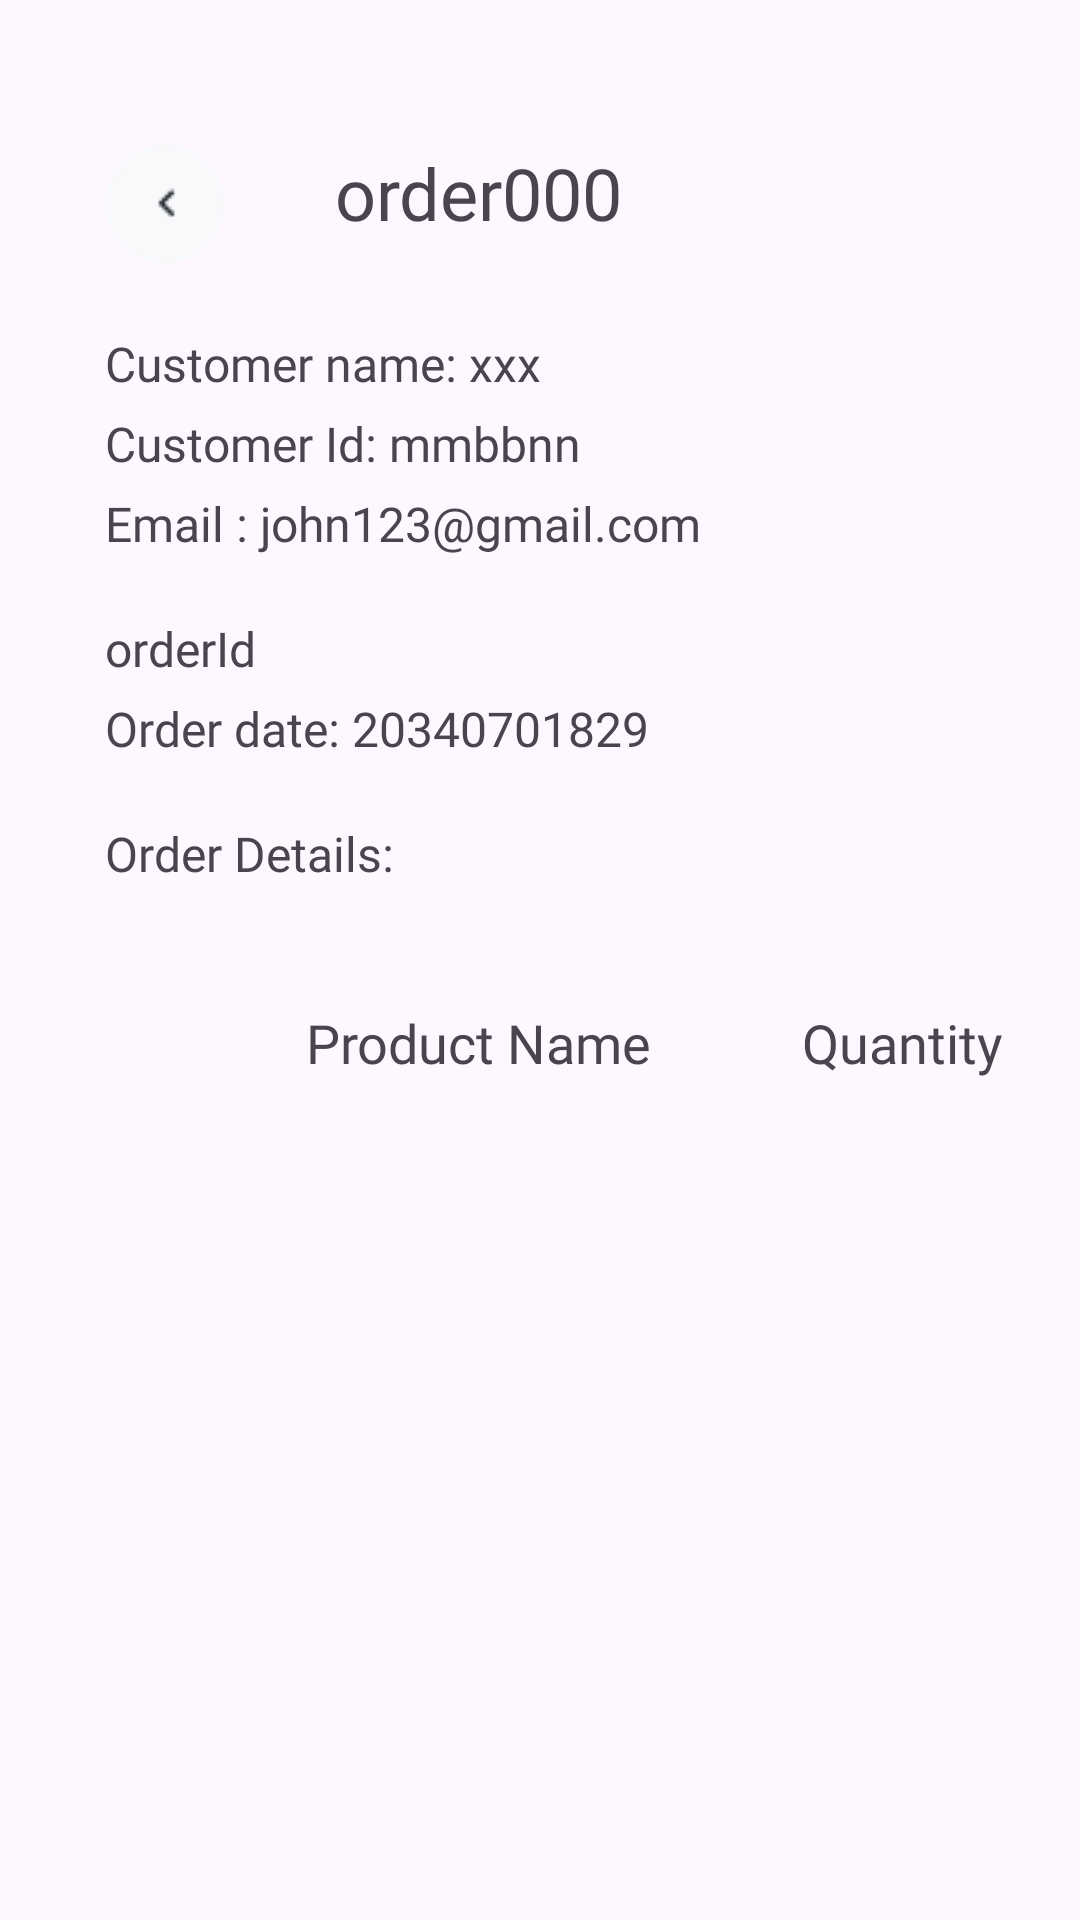

Where icons sit on this 1080x1920 app screen, as {"left": x1, "top": y1, "right": x2, "bottom": y2}:
back: {"left": 158, "top": 188, "right": 175, "bottom": 217}
